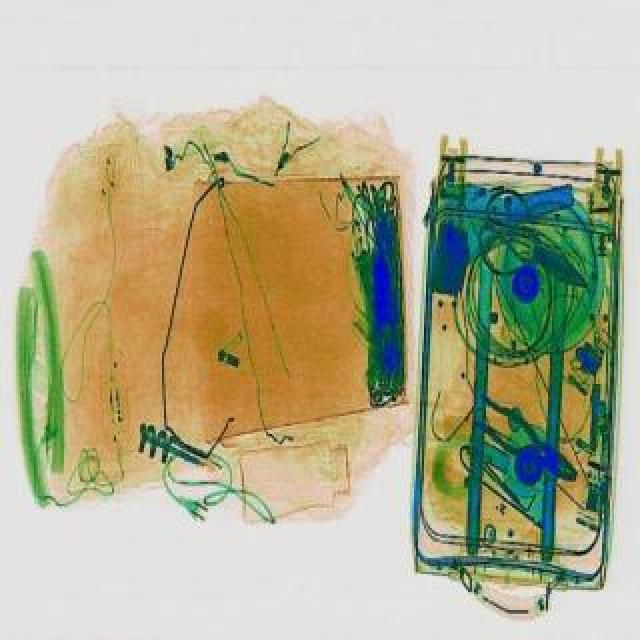pliers: (454, 182, 612, 316)
wrench: (460, 386, 586, 490)
